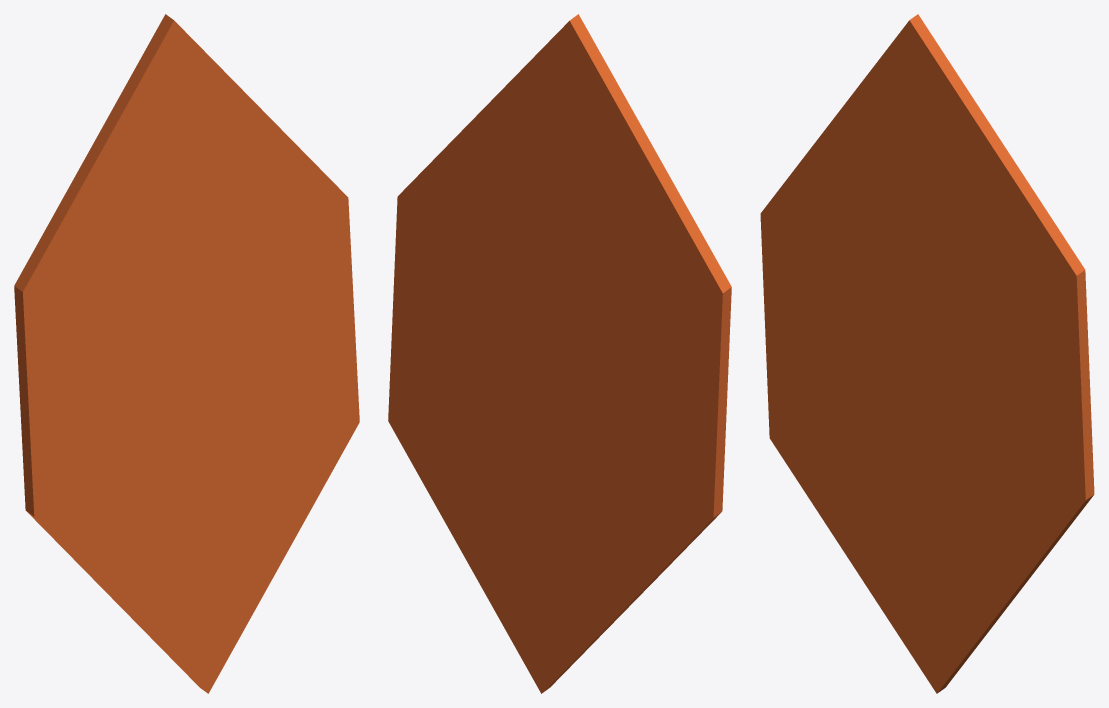
The model's file is leaf.glb.
3 views of the same model, side by side, from view 1: azimuth 30°, elevation 25°; view 2: azimuth 150°, elevation 25°; view 3: azimuth 330°, elevation 25° (orthographic). The views are drawn at different scales.
Parts seen in each view (by area): view 1: leaf1; view 2: leaf1; view 3: leaf1.
Boxes of the visible parts, x1=… form: leaf1: x1=14, y1=14, x2=359, y2=693; leaf1: x1=388, y1=14, x2=731, y2=693; leaf1: x1=760, y1=14, x2=1094, y2=693.
Size of the model in its own units: 0.316 by 0.6124 by 0.0195.
